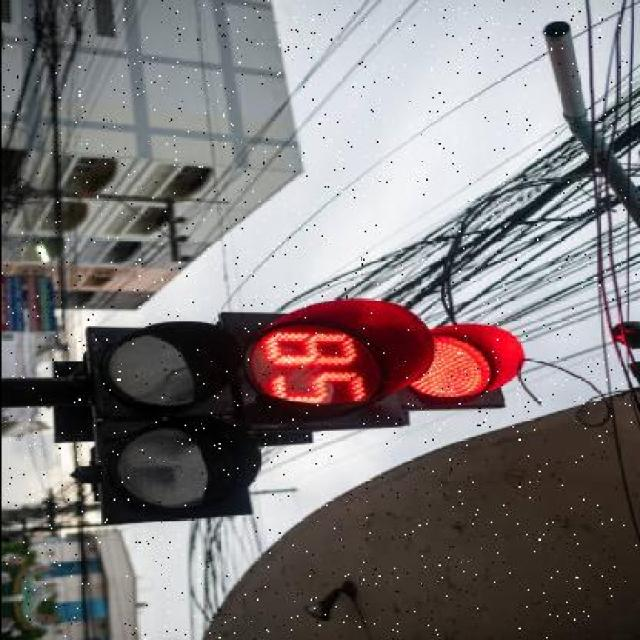red-light: (220, 273, 539, 441)
